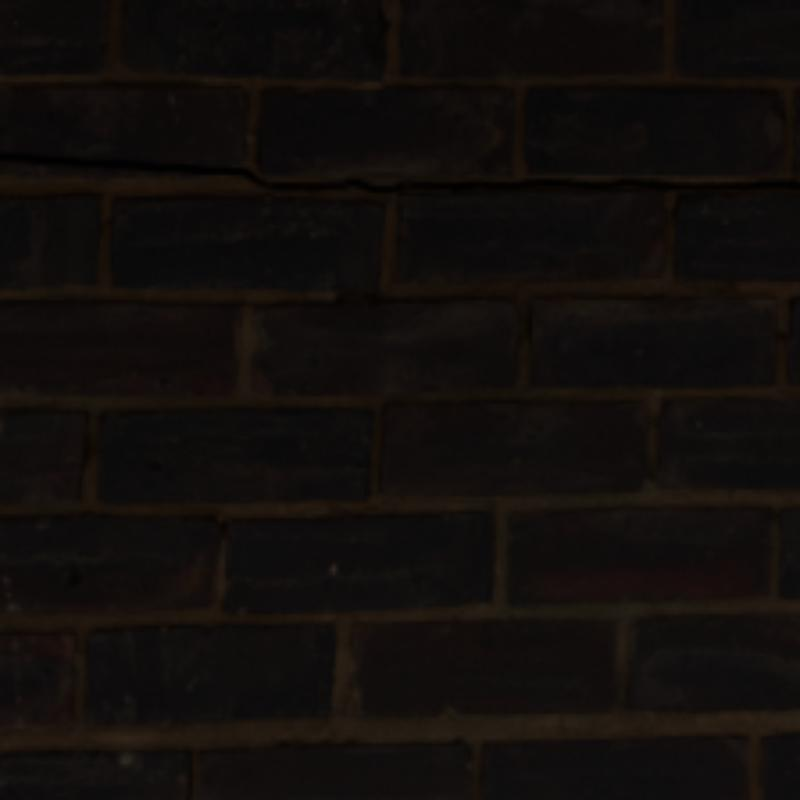pothole: (0, 154, 796, 189)
